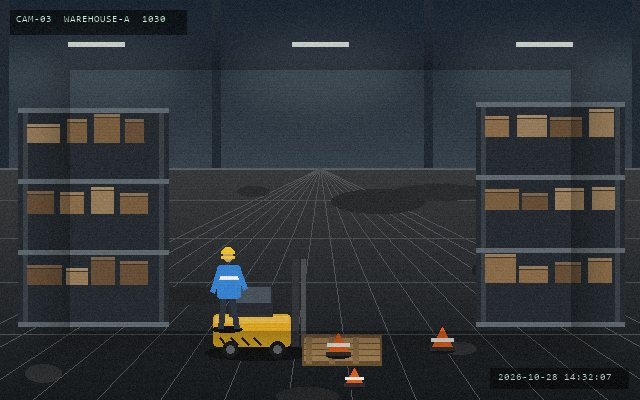cone: (429, 325, 455, 353), (325, 331, 351, 358), (343, 366, 365, 389)
forklift: (209, 258, 332, 360)
pallet: (300, 333, 383, 367)
person: (210, 245, 247, 331)
shelf: (476, 102, 624, 322), (18, 108, 168, 322)
